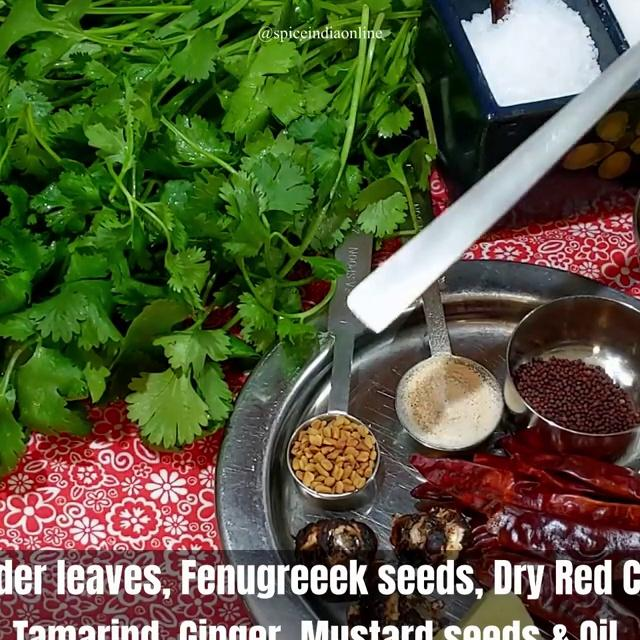cilantro: (0, 0, 350, 398)
